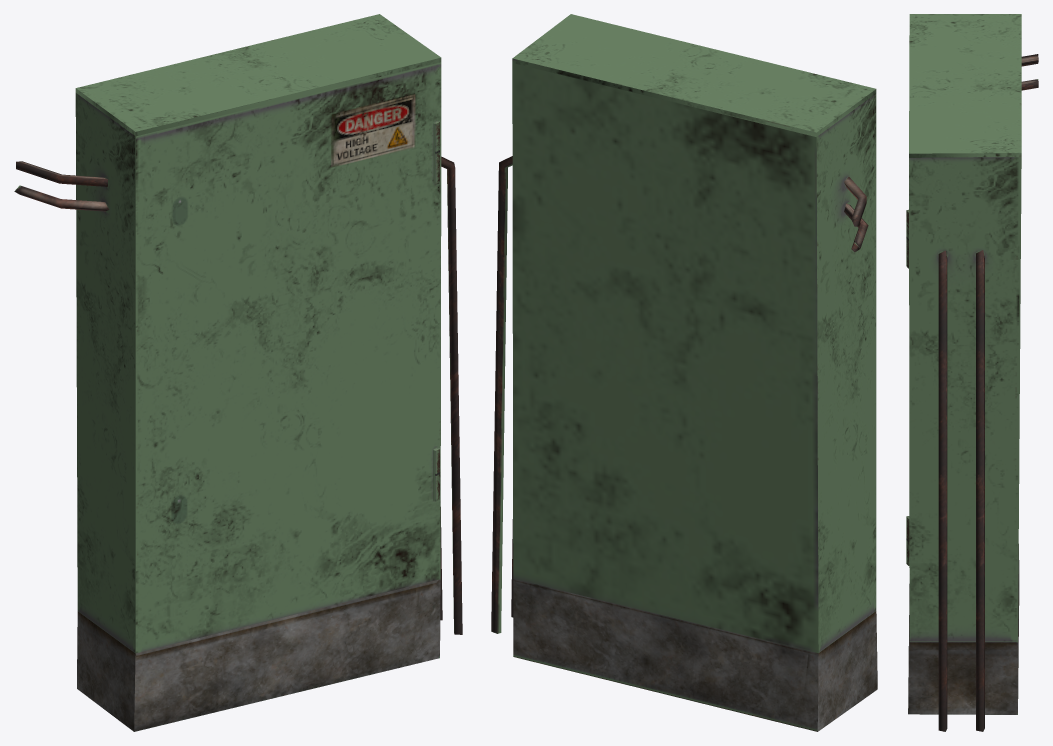
File: PowerBox.fbx
3 views of the same model, side by side, from view 1: azimuth 30°, elevation 25°; view 2: azimuth 150°, elevation 25°; view 3: azimuth 270°, elevation 25° (orthographic). The views are drawn at different scales.
Parts seen in each view (by area): view 1: PowerBox01_LOD2; view 2: PowerBox01_LOD2; view 3: PowerBox01_LOD2.
Part boxes in pixels (left/top/right/bottom): PowerBox01_LOD2: left=14, top=14, right=462, bottom=731; PowerBox01_LOD2: left=491, top=14, right=877, bottom=731; PowerBox01_LOD2: left=906, top=14, right=1038, bottom=731.
Size of the model in its own units: 1.73 by 2.49 by 0.5316.
